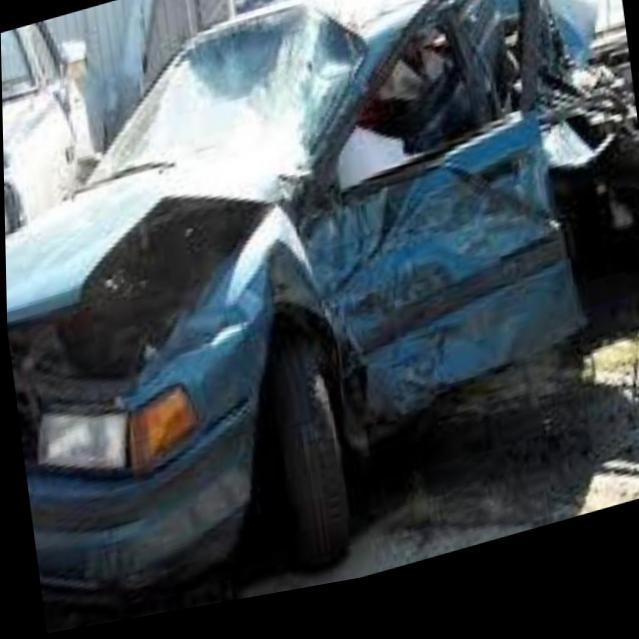crash: (46, 0, 639, 451)
